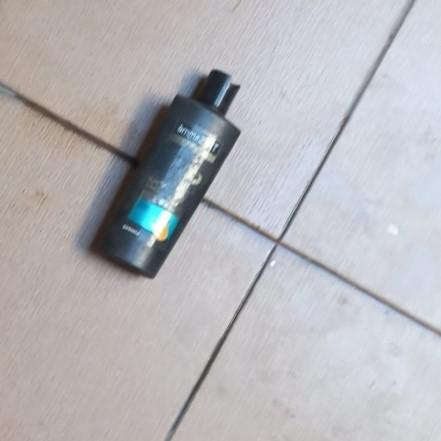Plastik: (97, 68, 241, 278)
